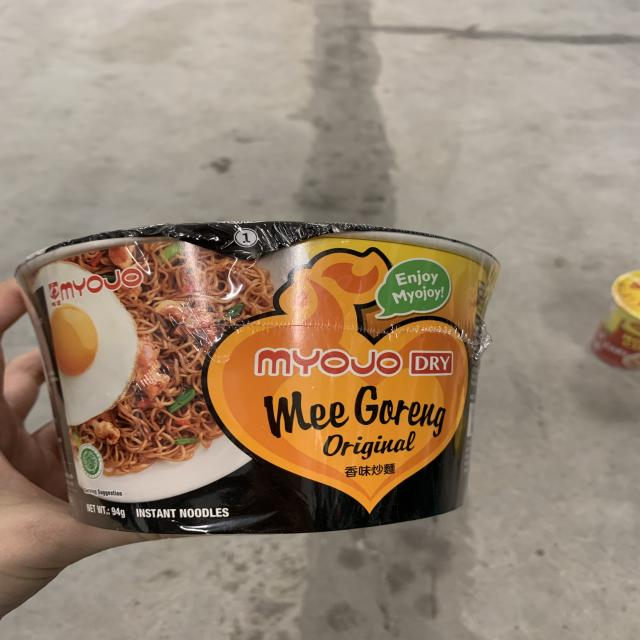object_name: (31, 235, 469, 523)
